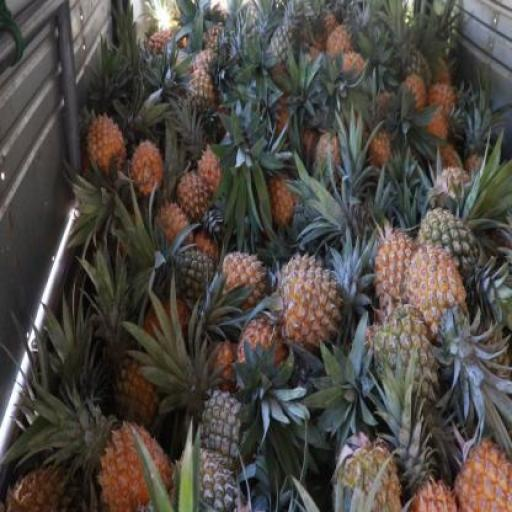------------------------------: (417, 207, 484, 321), (374, 304, 442, 405), (116, 358, 166, 433), (187, 70, 220, 128)
Pineapple - v8 v1: (99, 424, 175, 511), (406, 248, 468, 350), (282, 256, 344, 352), (374, 231, 424, 319), (237, 318, 284, 396), (86, 116, 126, 177), (222, 255, 265, 311), (178, 173, 216, 220), (133, 141, 162, 200)
